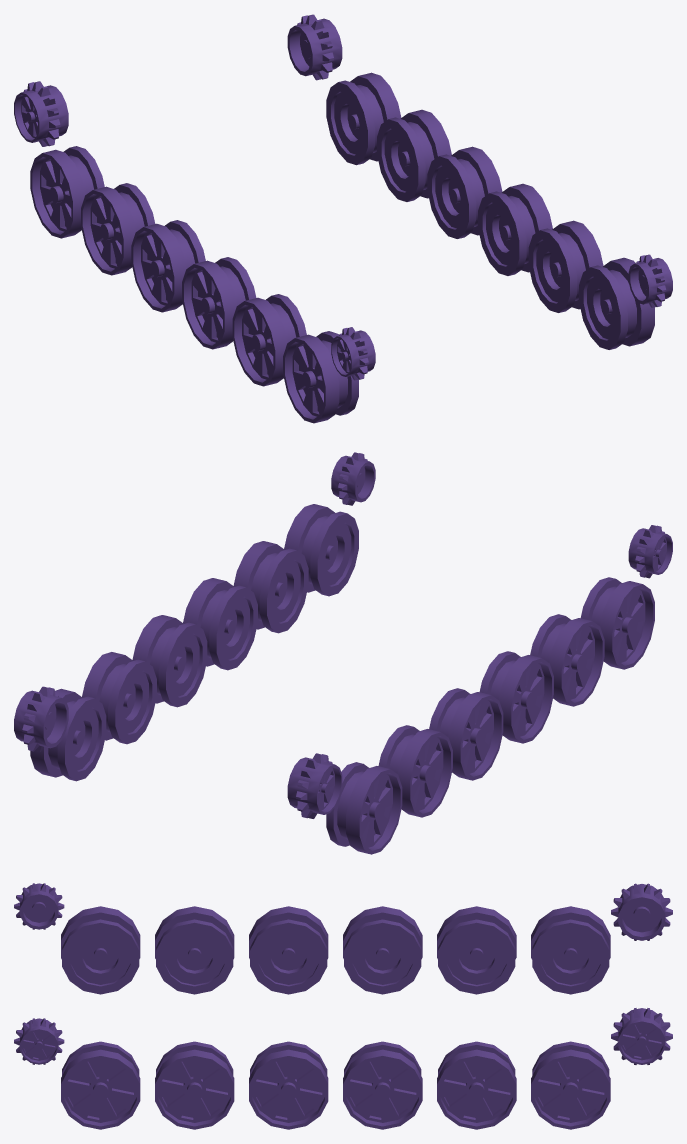
The model's file is wheel tank.fbx.
3 views of the same model, one above another, from view 1: azimuth 30°, elevation 25°; view 2: azimuth 150°, elevation 25°; view 3: azimuth 270°, elevation 25° (orthographic). The views are drawn at different scales.
Visible parts, largest first — view 1: Wheel_L2; view 2: Wheel_L2; view 3: Wheel_L2.
Part boxes in pixels (left/top/right/bottom): Wheel_L2: left=14, top=14, right=672, bottom=423; Wheel_L2: left=14, top=452, right=672, bottom=854; Wheel_L2: left=14, top=883, right=672, bottom=1129.
Bounding box in the file's own units: 22.82 × 7.7 × 42.51.
